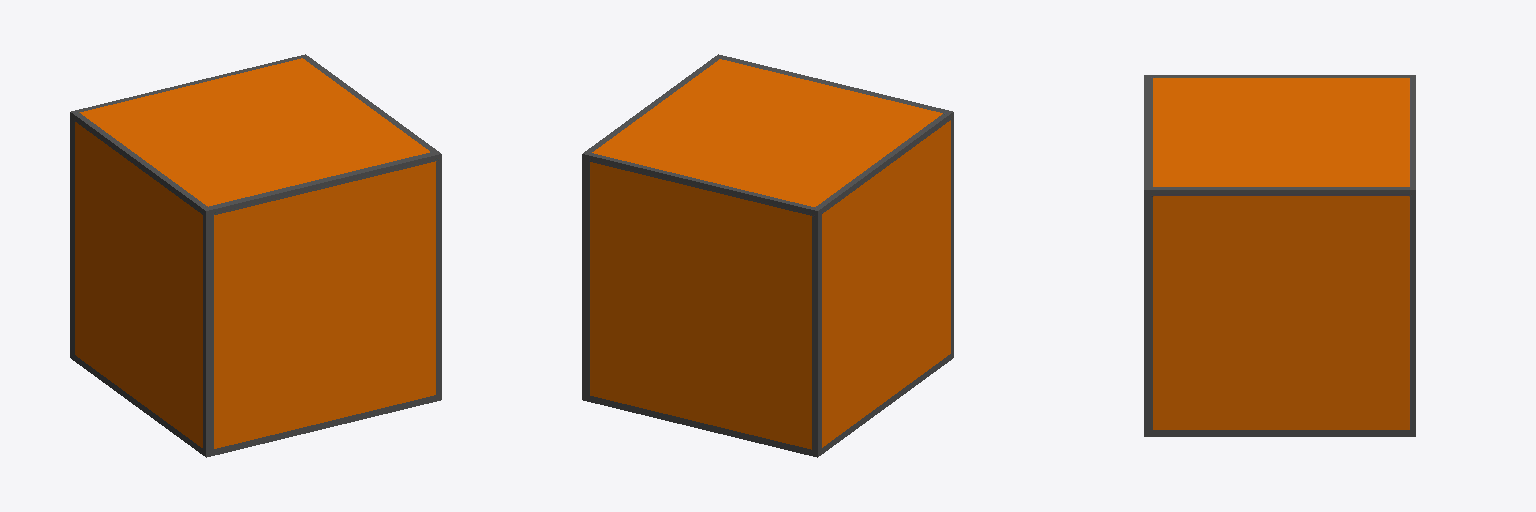
3 views of the same model, side by side, from view 1: azimuth 30°, elevation 25°; view 2: azimuth 150°, elevation 25°; view 3: azimuth 270°, elevation 25° (orthographic).
Parts seen in each view (by area): view 1: Cube; view 2: Cube; view 3: Cube.
Boxes of the visible parts, box(x1,y1,x2,y2) form: Cube: box(70, 54, 441, 457); Cube: box(582, 54, 953, 457); Cube: box(1144, 75, 1415, 436).
Bounding box in the file's own units: 2 × 2 × 2.
Materials: 1 (1 with a texture image).